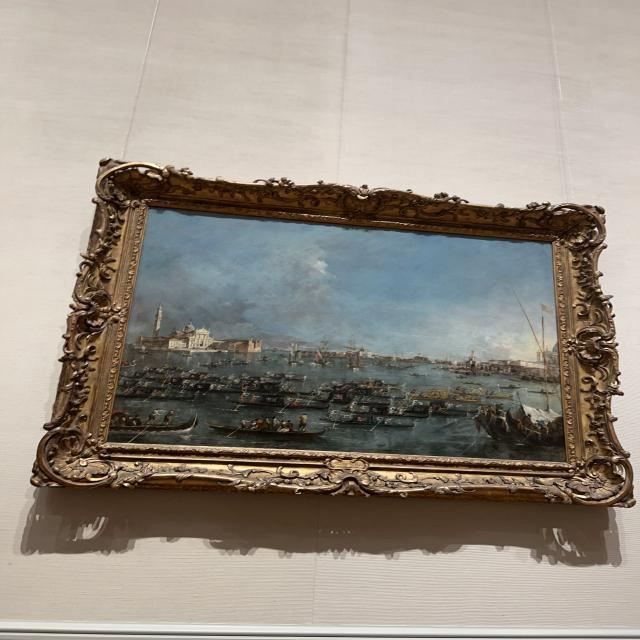ships: (112, 210, 558, 455)
